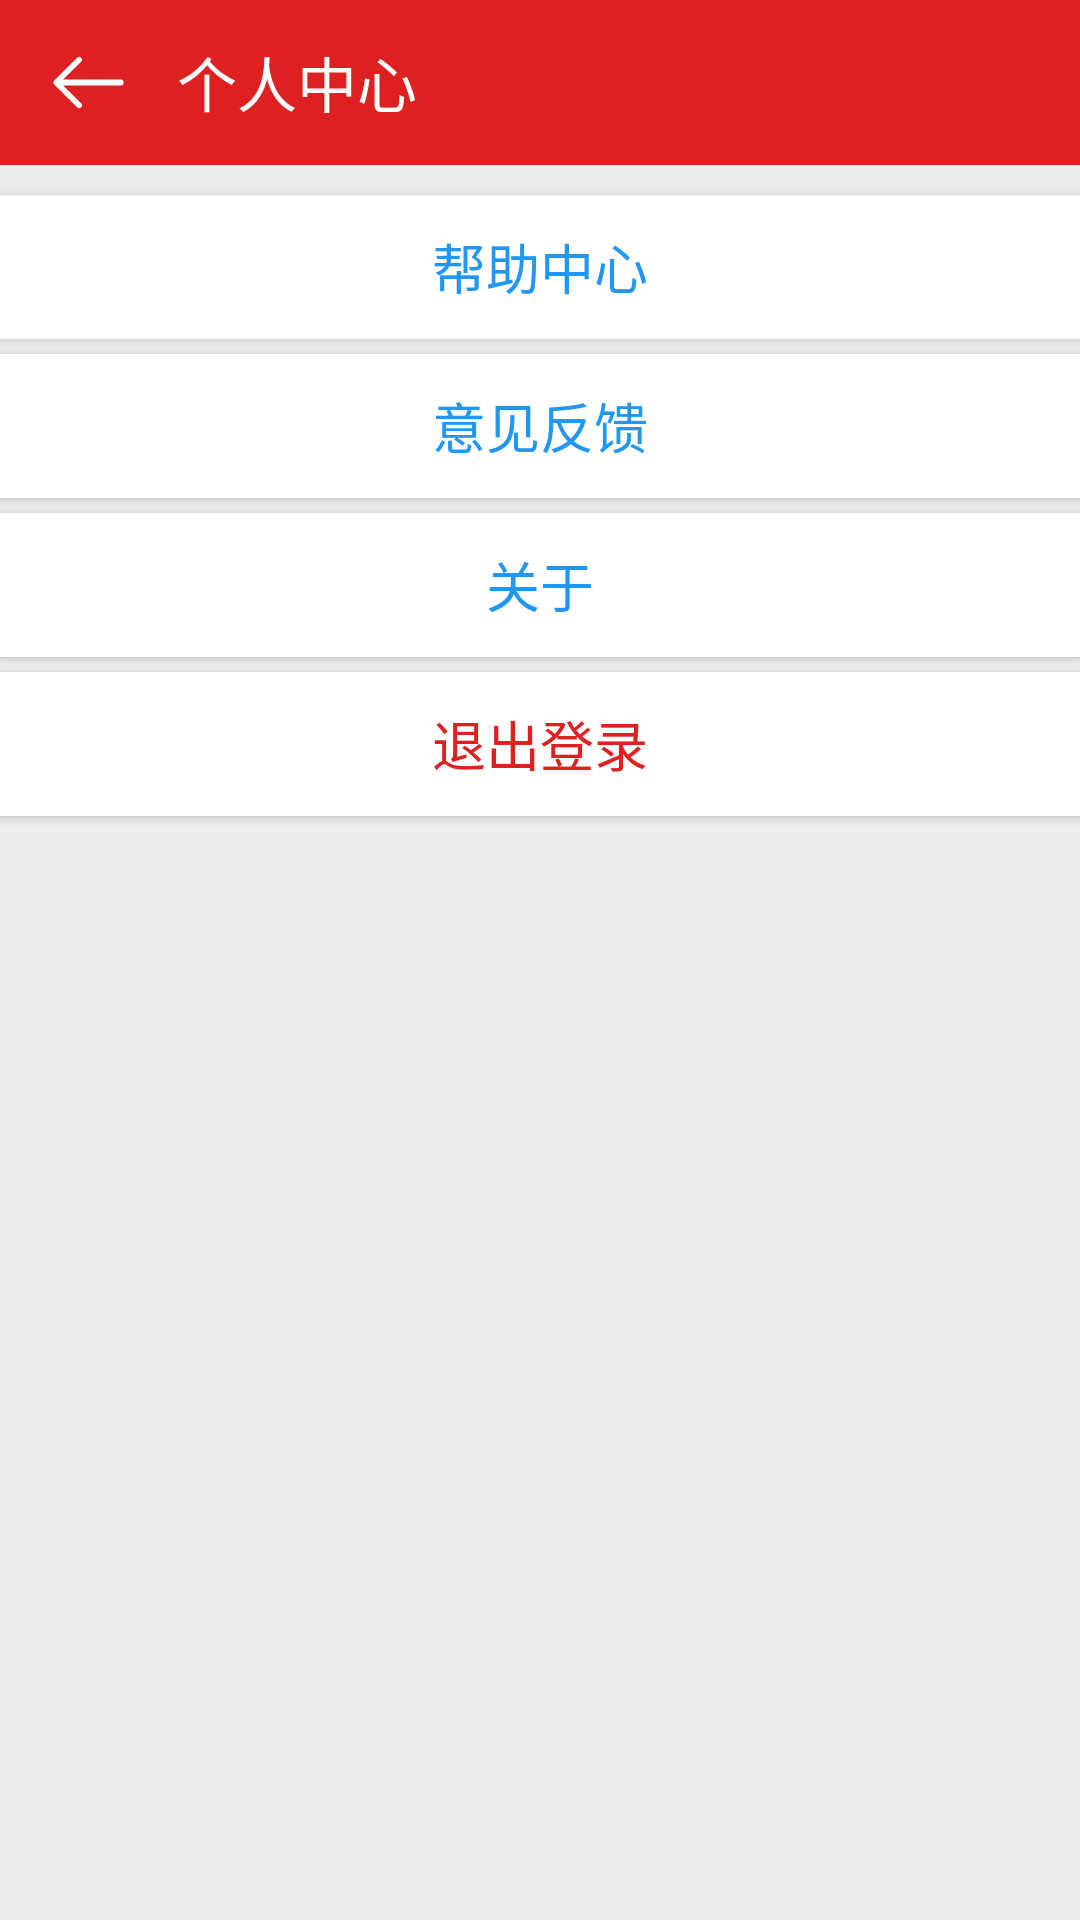

Locate icon controls on the screen. Image size 1080w x 1920h, boxes as Rect(x1, y1, x2, y2).
back: Rect(53, 56, 124, 109)
